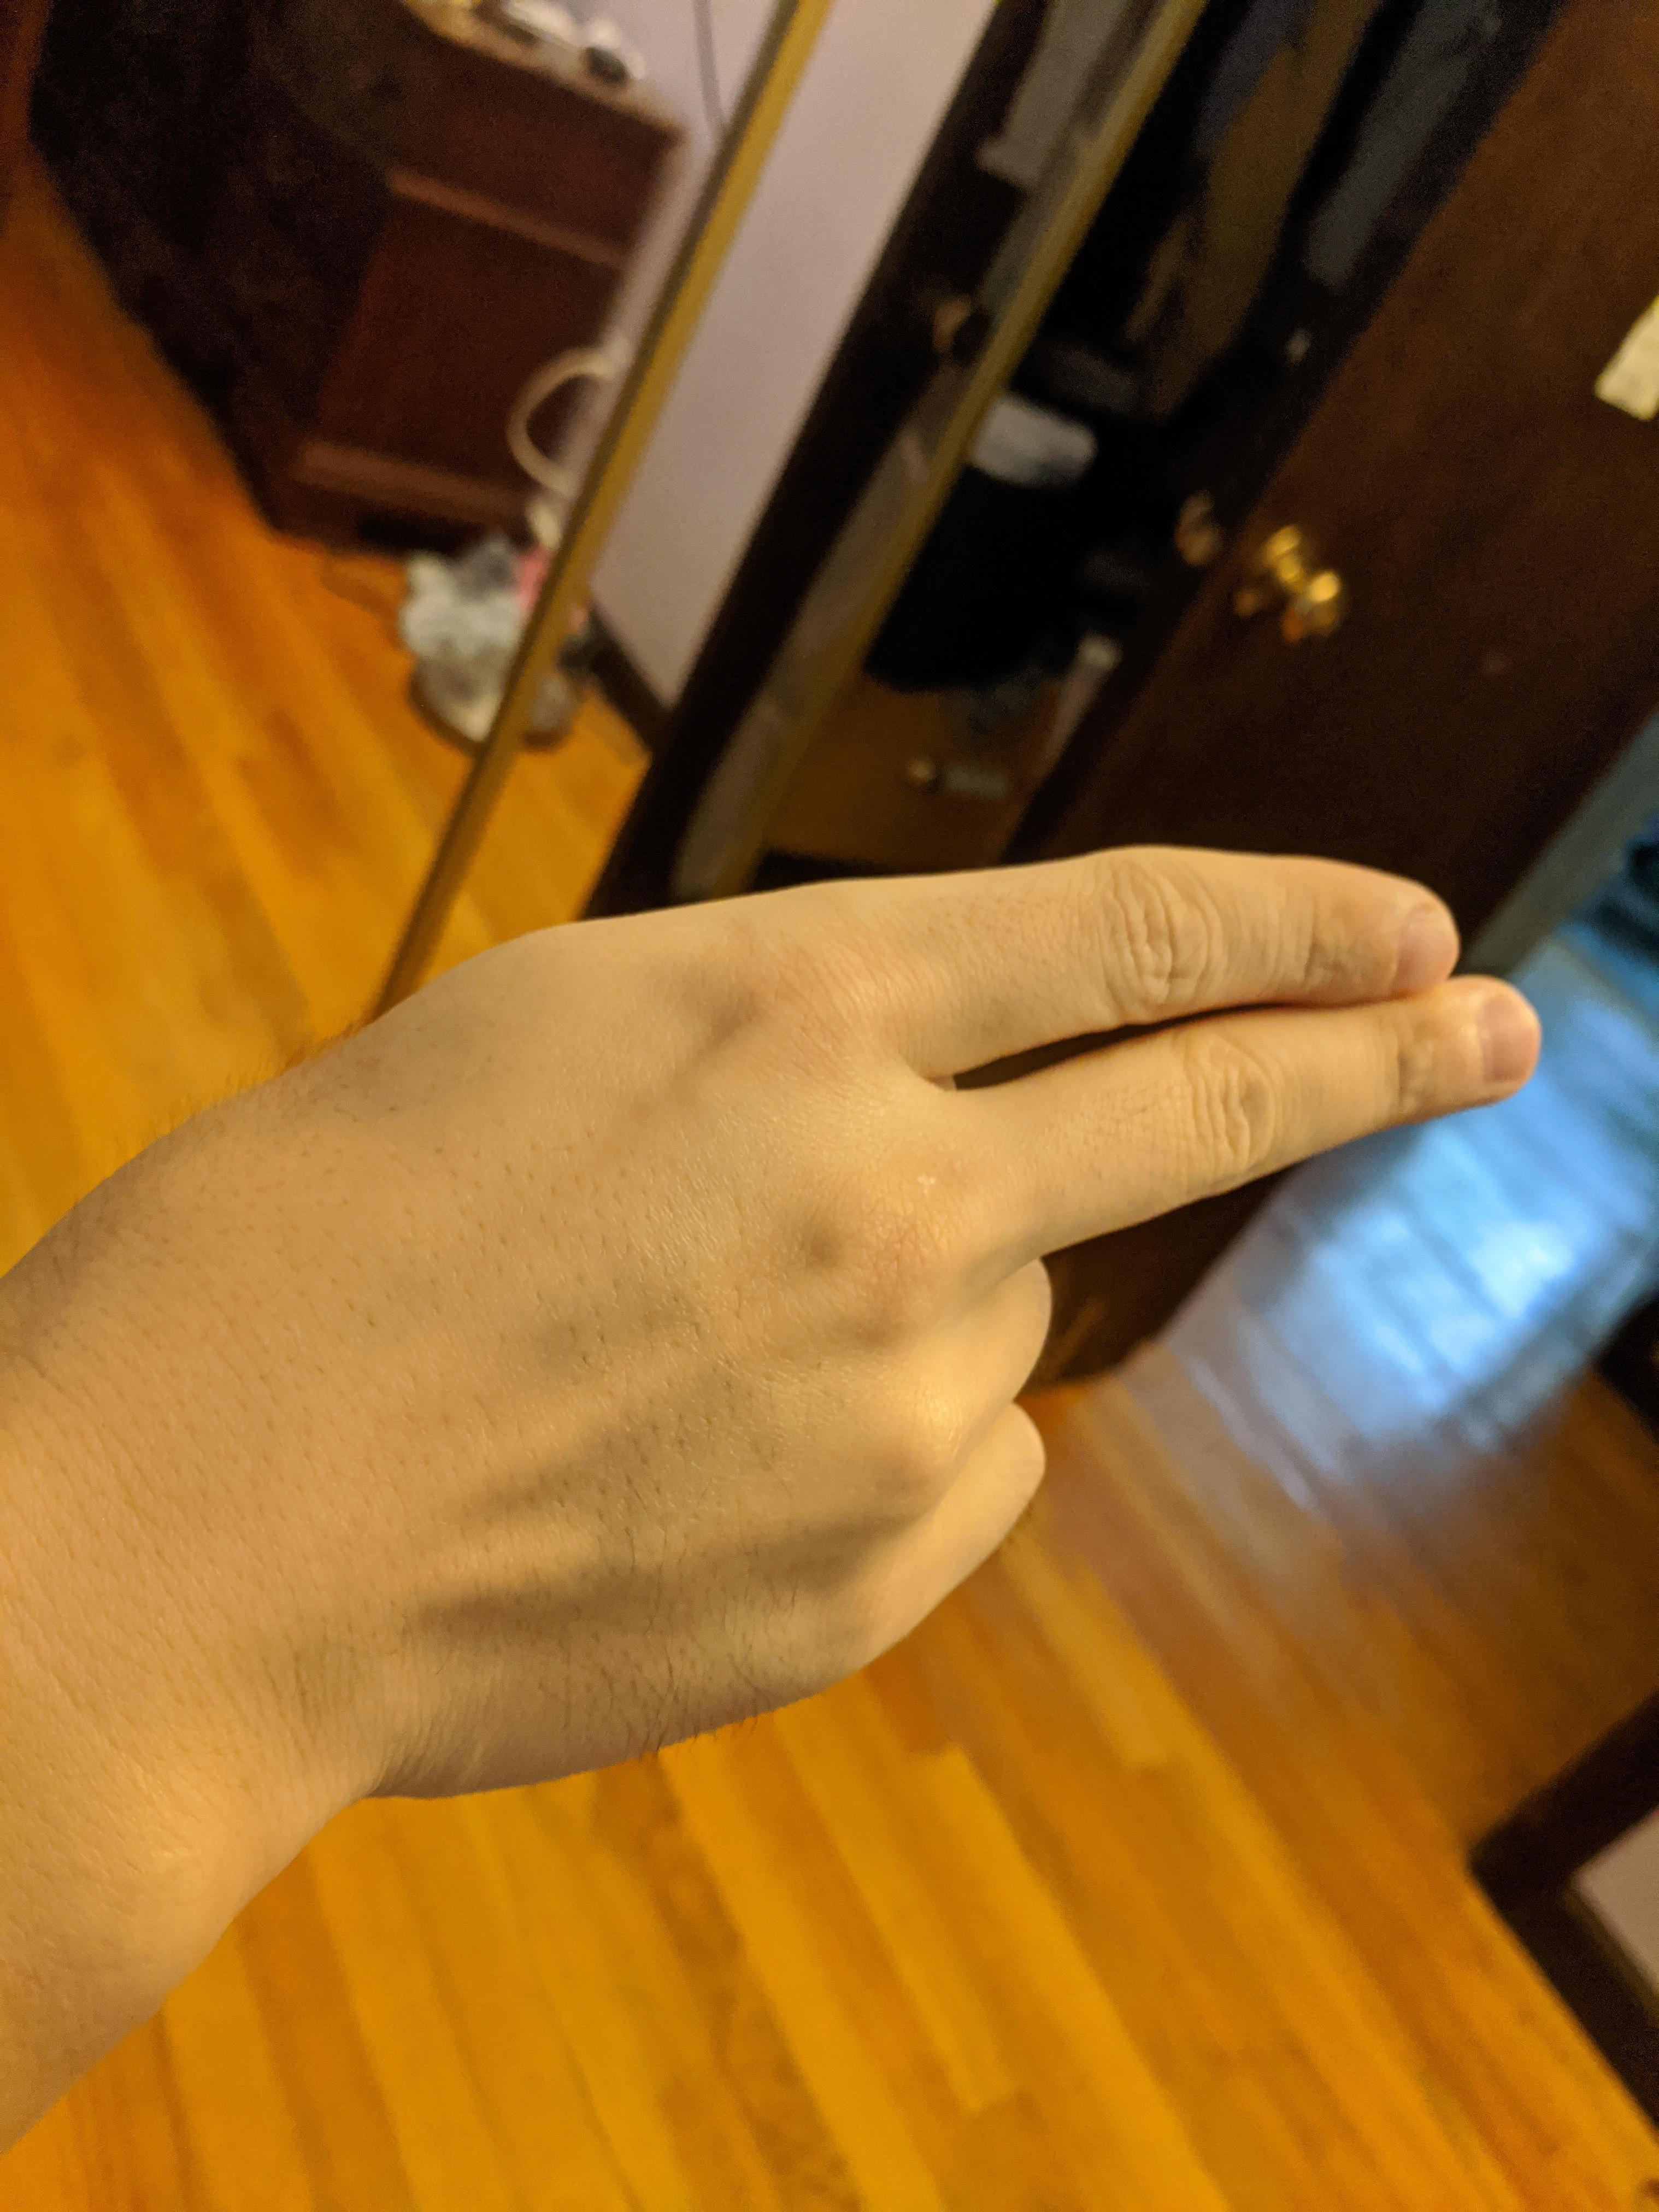H: (143, 822, 1560, 1839)
